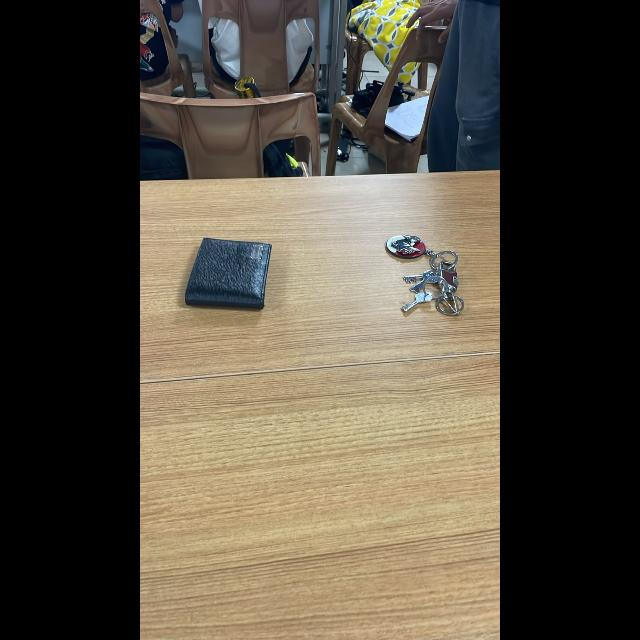keys: (368, 224, 479, 318)
wallet: (178, 211, 280, 323)
